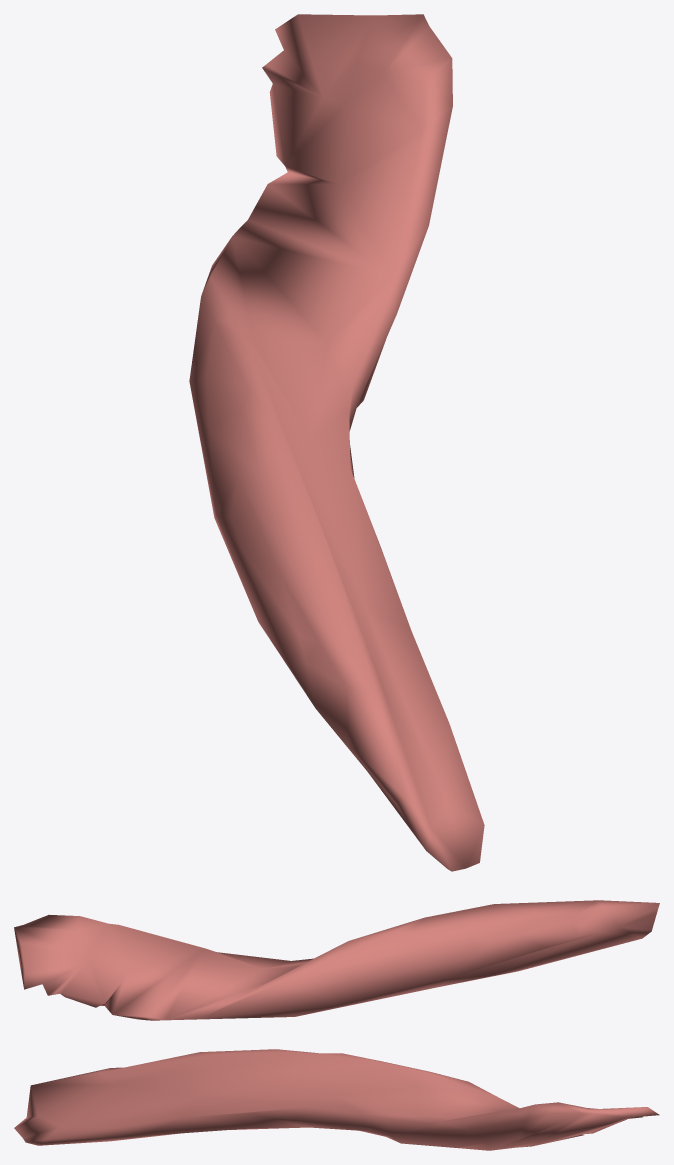
The picture shows the model from 3 angles, top to bottom: view 1: azimuth 30°, elevation 25°; view 2: azimuth 150°, elevation 25°; view 3: azimuth 270°, elevation 25°; orthographic projection. The views are drawn at different scales.
Parts seen in each view (by area): view 1: ZA_701504cc134f946b; view 2: ZA_701504cc134f946b; view 3: ZA_701504cc134f946b.
Part boxes in pixels (box(x1,y1,x2,y2)): ZA_701504cc134f946b: box(189, 14, 484, 871); ZA_701504cc134f946b: box(14, 900, 659, 1020); ZA_701504cc134f946b: box(14, 1049, 659, 1150).
Bounding box in the file's own units: 0.0226 × 0.0116 × 0.0433.
